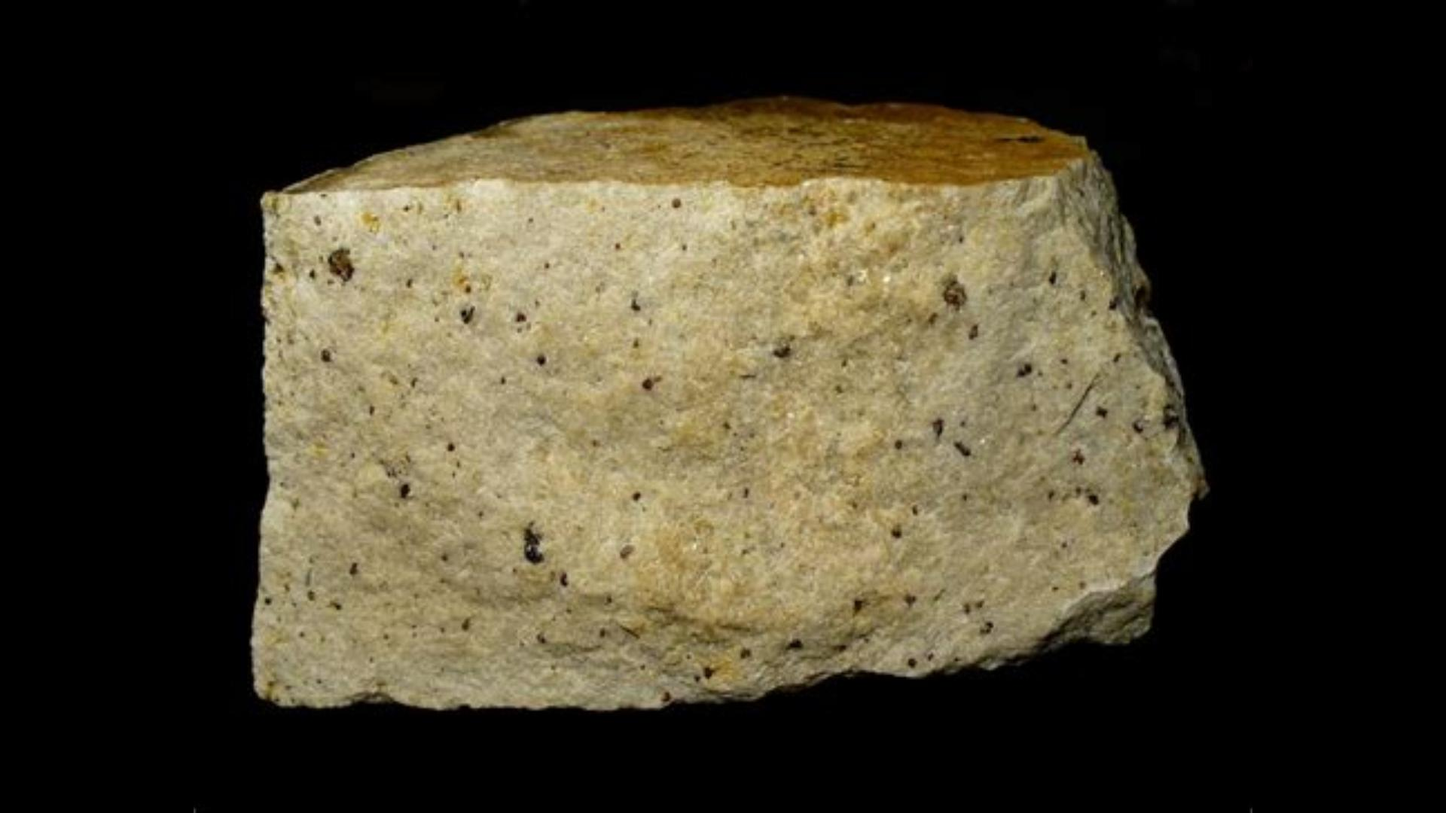rock: (258, 101, 1201, 706)
